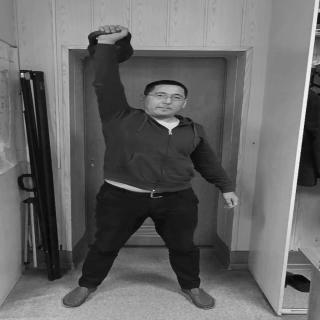kettlebell: (87, 30, 135, 63)
